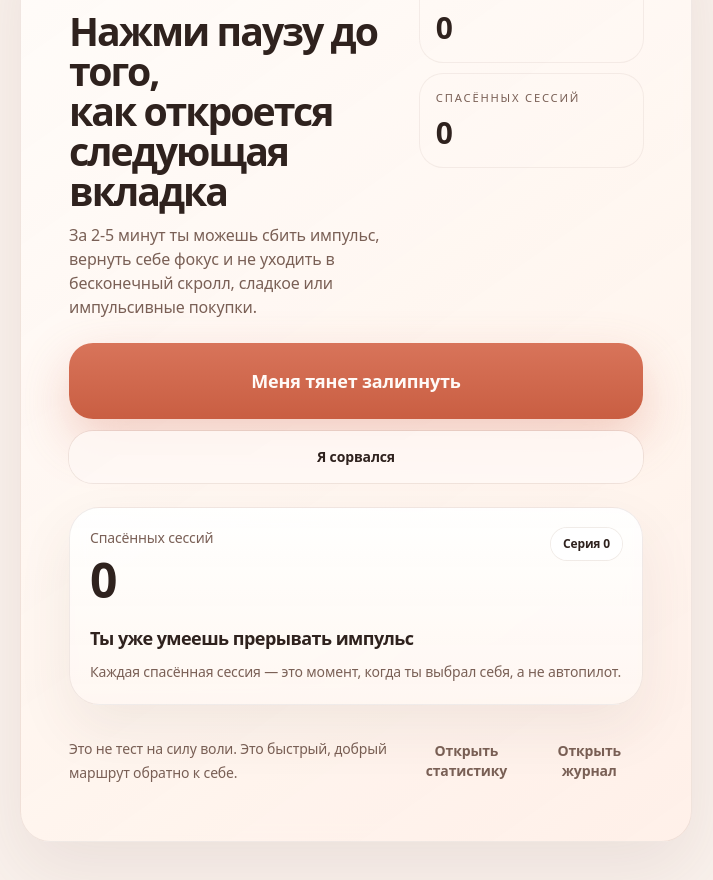
Test: opens relapse mode from the home screen
(page scrolled)
Click the button "Я сорвался": (356, 457) top-left (69, 431), bottom-right (643, 483)
(page scrolled)
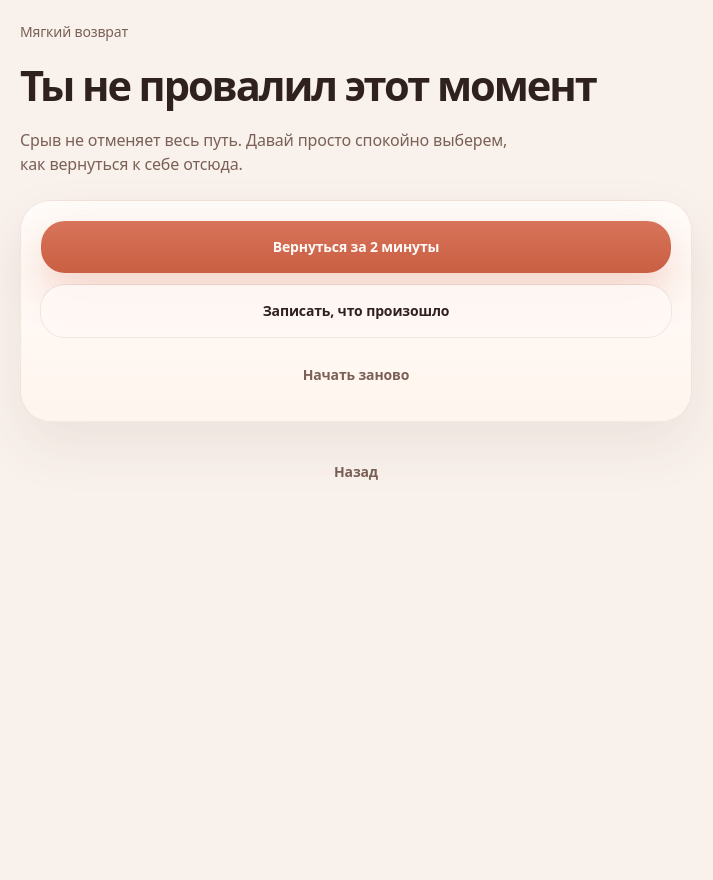
Now the heading "Ты не провалил этот момент" is shown, box top-left (20, 54), bottom-right (692, 116)
Now the button "Вернуться за 2 минуты" is shown, box top-left (41, 221), bottom-right (671, 273)
Now the button "Записать, что произошло" is shown, box top-left (41, 285), bottom-right (671, 337)
